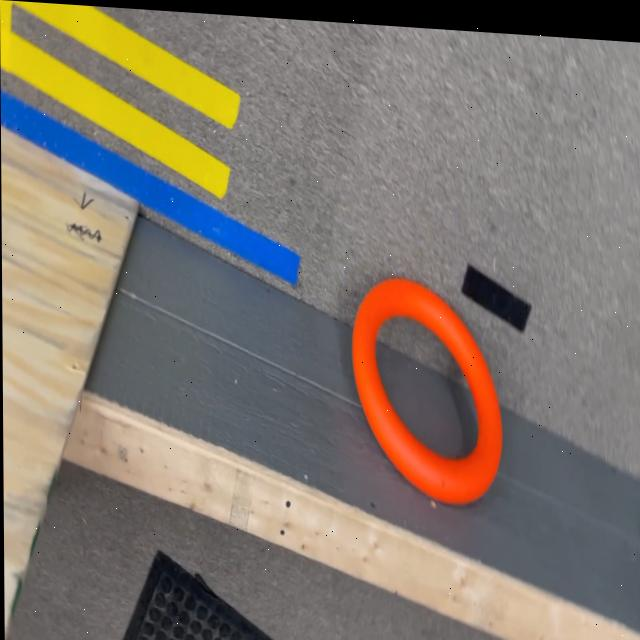note: (350, 271, 504, 501)
